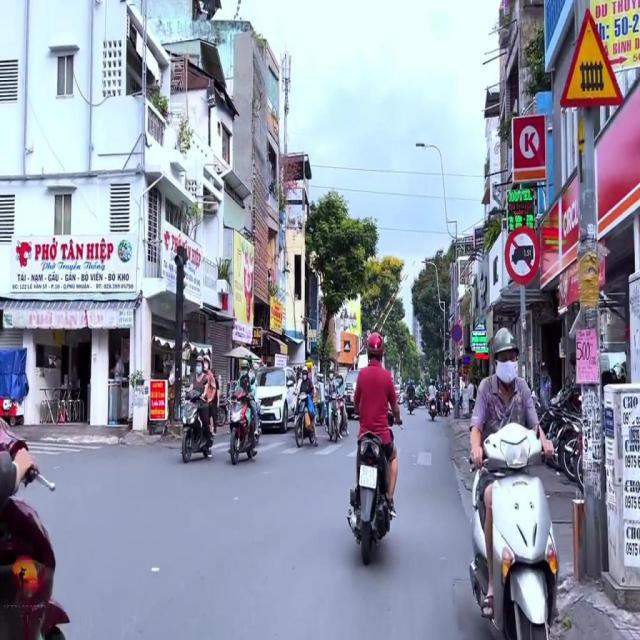cam_do_xe: (452, 324, 462, 342)
cam_o_to_tai: (504, 225, 540, 286)
khac: (560, 5, 626, 106)
